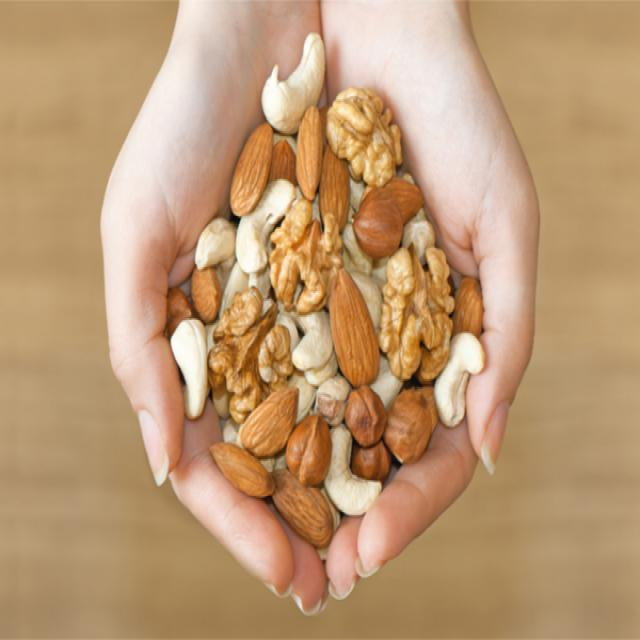Frutta secca: (158, 56, 486, 552)
